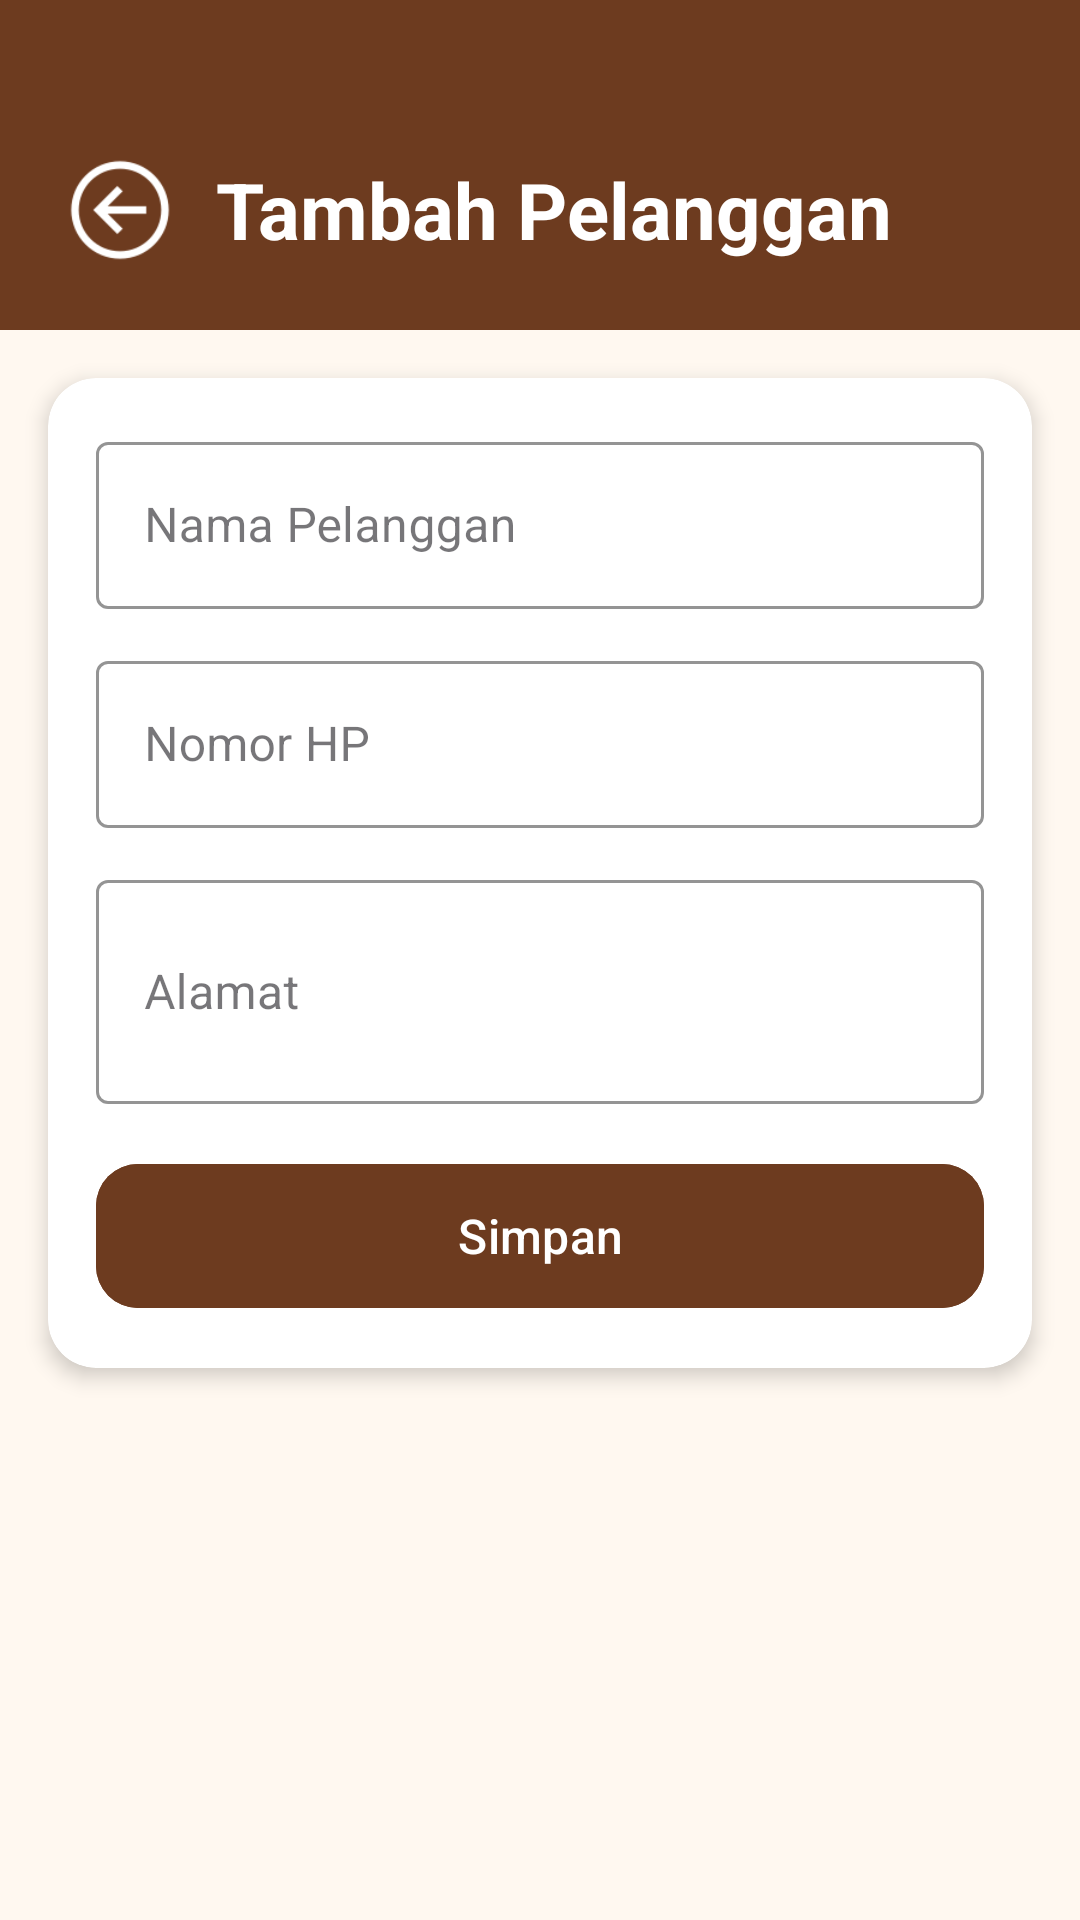

Named icons in this screenshot (1080x1920) and their bounding boxes, (x1, y1, x2, y2):
Kembali: (70, 160, 170, 260)
